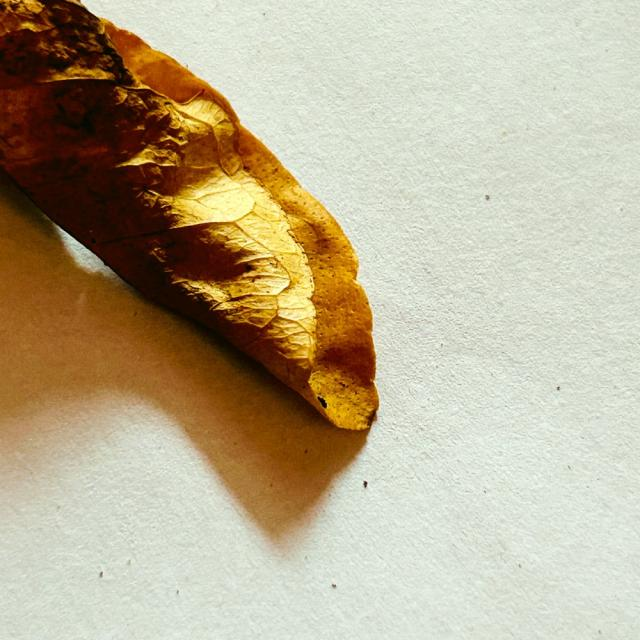DryLeaf_Lemon: (0, 0, 378, 429)
